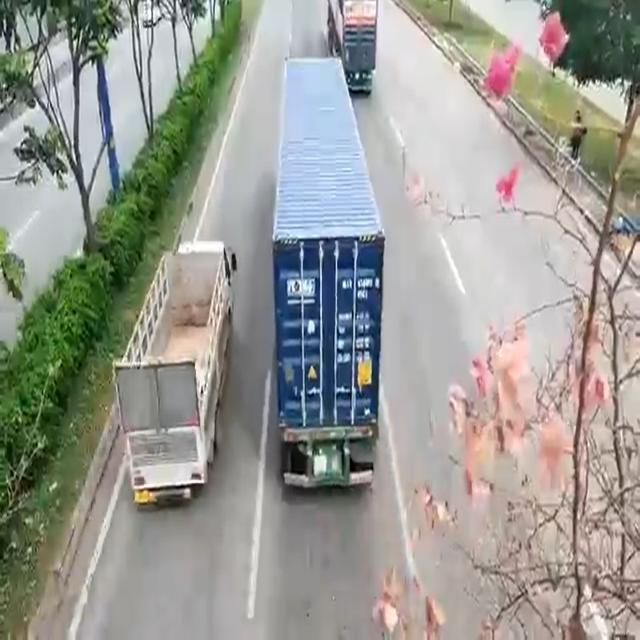truck: (278, 52, 374, 478), (121, 240, 231, 503)
